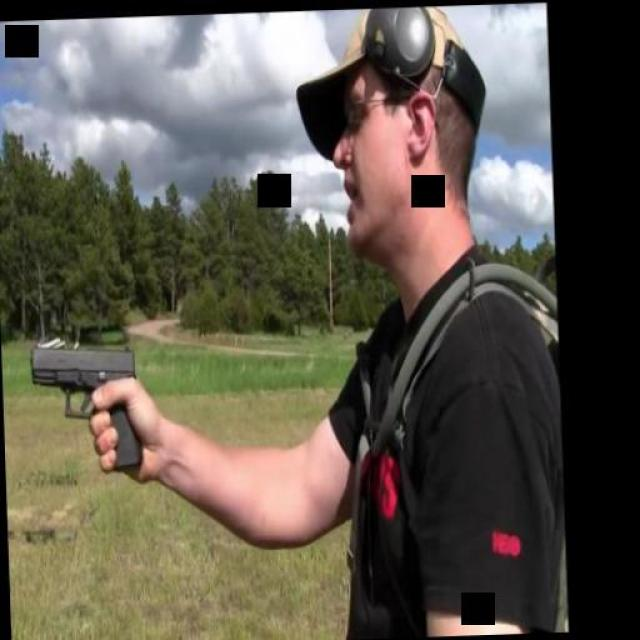gun: (27, 340, 146, 476)
